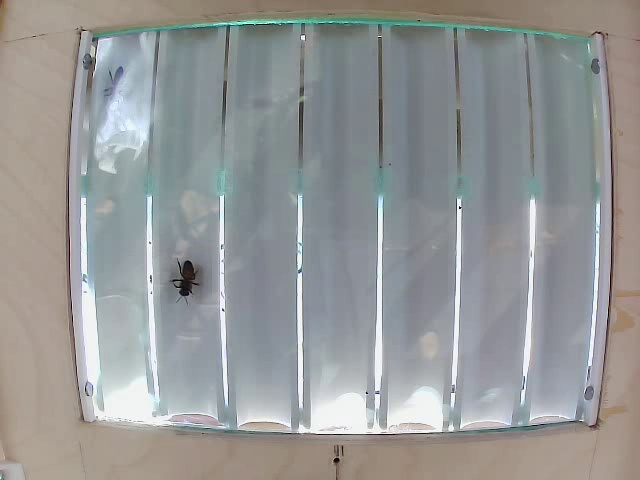bee: (176, 252, 205, 309), (101, 64, 129, 101)
